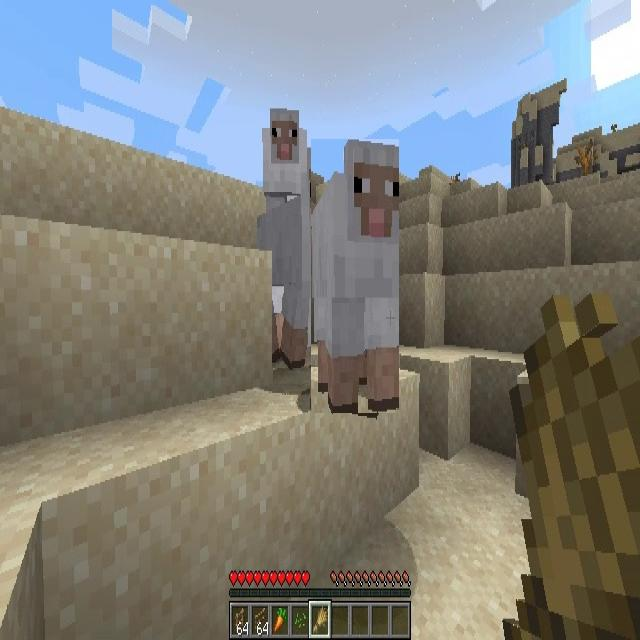sheep: (311, 140, 399, 413), (256, 191, 310, 369), (263, 109, 308, 211)
